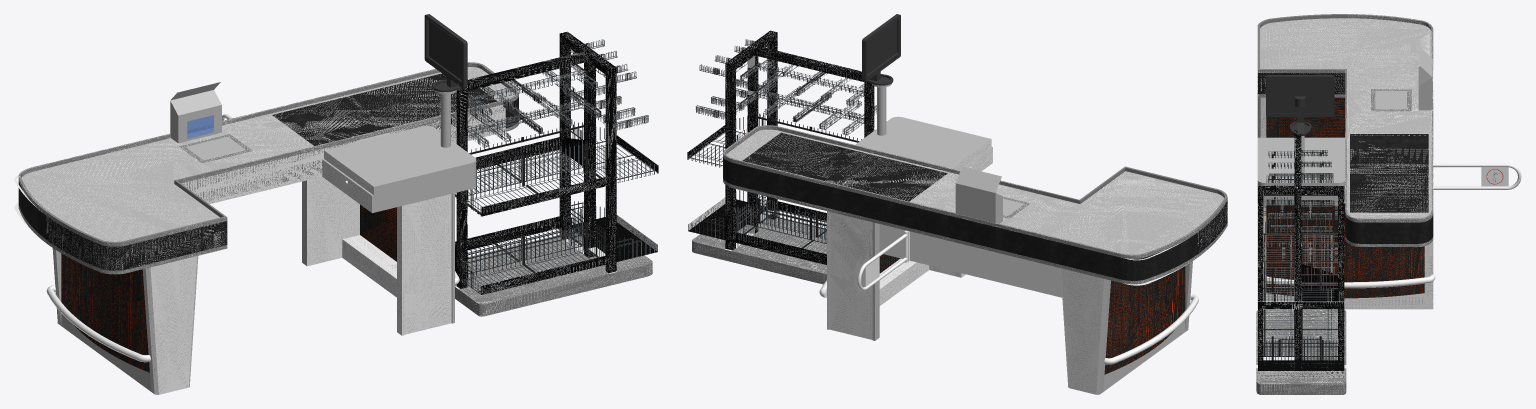
File: shop-checkout.dae
3 views of the same model, side by side, from view 1: azimuth 30°, elevation 25°; view 2: azimuth 150°, elevation 25°; view 3: azimuth 270°, elevation 25° (orthographic). The views are drawn at different scales.
Visible parts, largest first — view 1: group_3 (×18), group_11 (×12), group_4, group_10, group_8; view 2: group_3 (×17), group_11 (×10), group_10, group_4, group_1; view 3: group_3 (×13), group_11 (×17), group_4, group_1 (×2), group_8 (×2), group_10, group_7.
Boxes of the visible parts, x1=… form: group_3 (×18): x1=18, y1=62, x2=518, y2=394; group_11 (×12): x1=451, y1=31, x2=658, y2=316; group_4: x1=424, y1=14, x2=467, y2=88; group_10: x1=170, y1=82, x2=221, y2=143; group_8: x1=186, y1=136, x2=245, y2=159; group_3 (×17): x1=723, y1=87, x2=1227, y2=394; group_11 (×10): x1=687, y1=30, x2=876, y2=284; group_10: x1=955, y1=166, x2=1001, y2=223; group_4: x1=862, y1=14, x2=900, y2=81; group_1: x1=857, y1=231, x2=907, y2=290; group_3 (×13): x1=1257, y1=14, x2=1435, y2=309; group_11 (×17): x1=1256, y1=130, x2=1346, y2=394; group_4: x1=1266, y1=75, x2=1334, y2=117; group_1 (×2): x1=1433, y1=163, x2=1521, y2=189; group_8 (×2): x1=1371, y1=89, x2=1411, y2=111; group_10: x1=1418, y1=48, x2=1432, y2=110; group_7: x1=1289, y1=96, x2=1311, y2=135.
Size of the model in its own units: 125 by 58.13 by 58.1.
Materials: 18 (5 with a texture image).
